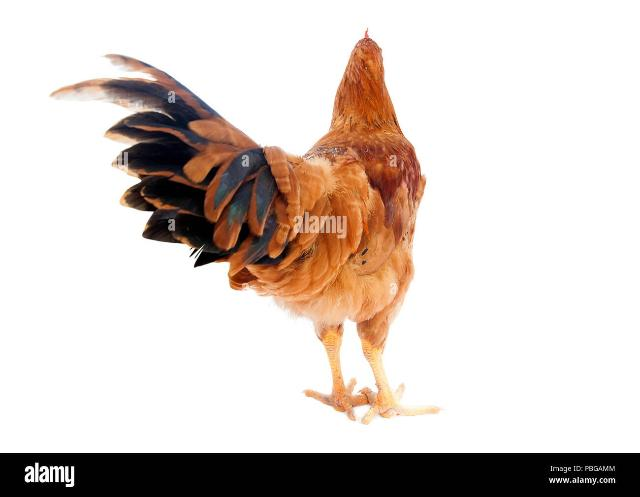Chicken: (53, 30, 443, 425)
